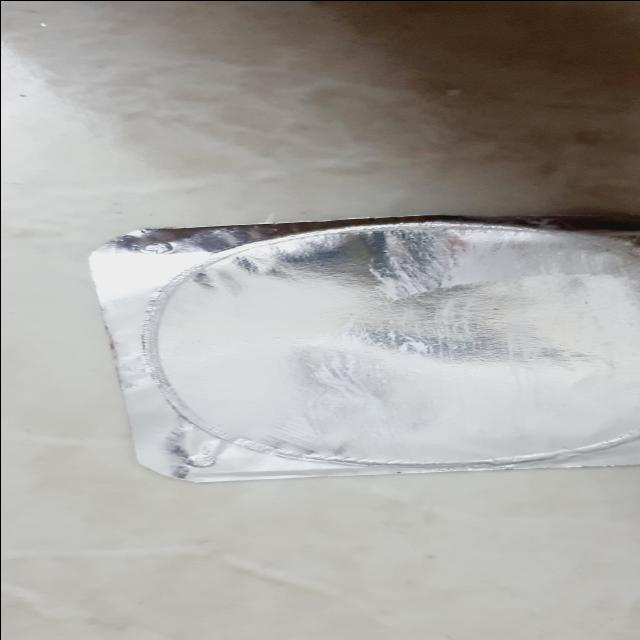Metal: (86, 215, 640, 483)
